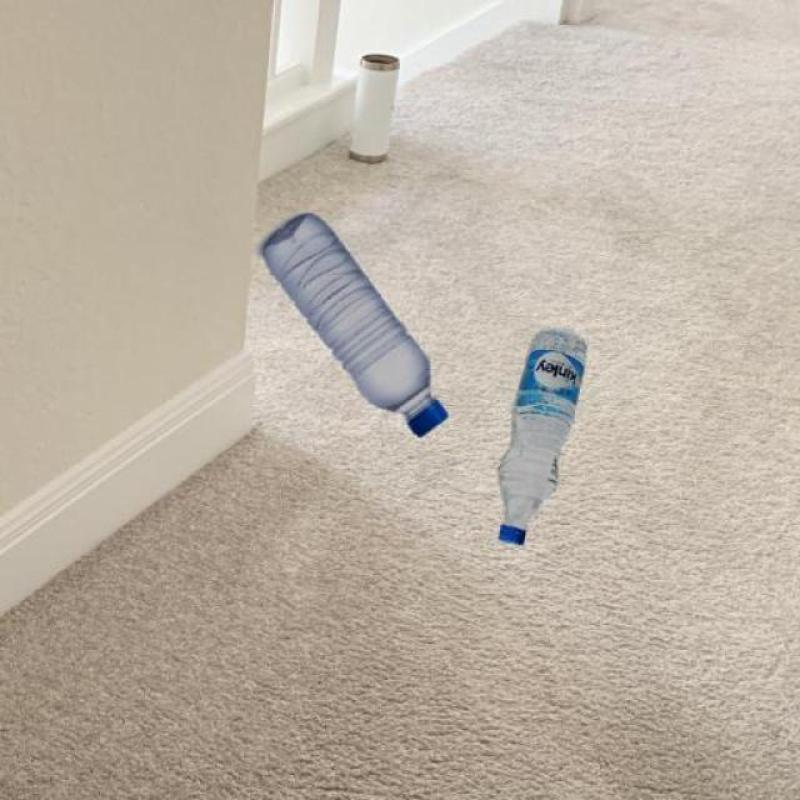botella: (260, 214, 450, 438), (498, 330, 587, 548)
